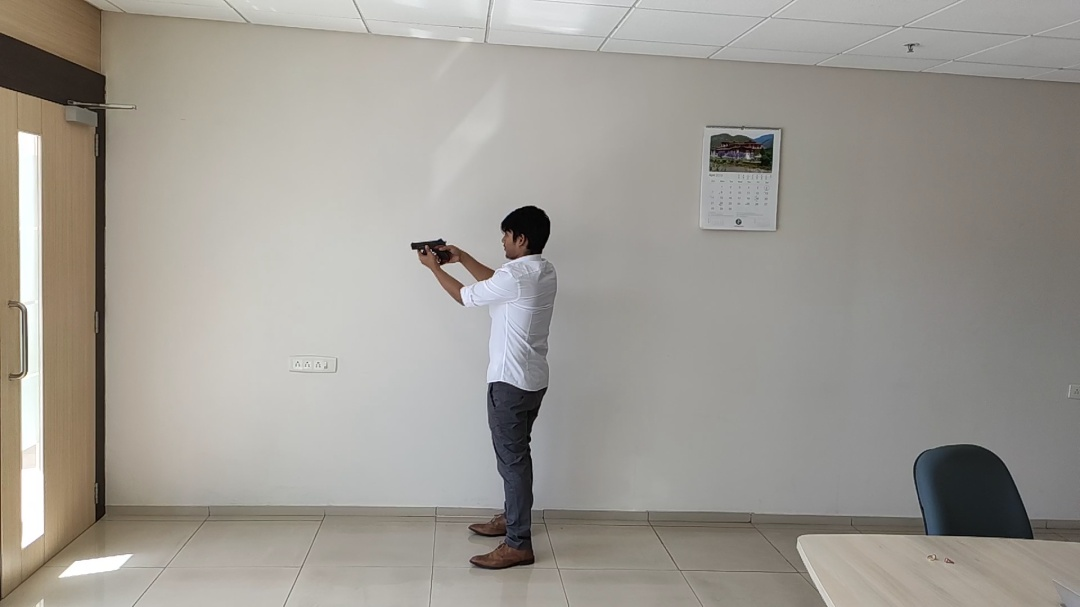gun: (303, 62, 624, 569)
